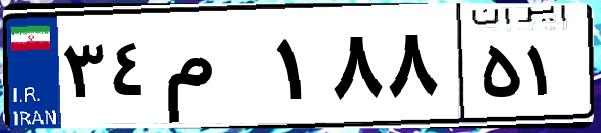1: (270, 28, 330, 110), (525, 38, 570, 115)
3: (57, 26, 110, 100)
4: (110, 28, 158, 98)
5: (475, 38, 525, 113)
8: (385, 28, 445, 110), (330, 28, 385, 110)
م: (158, 20, 270, 120)
